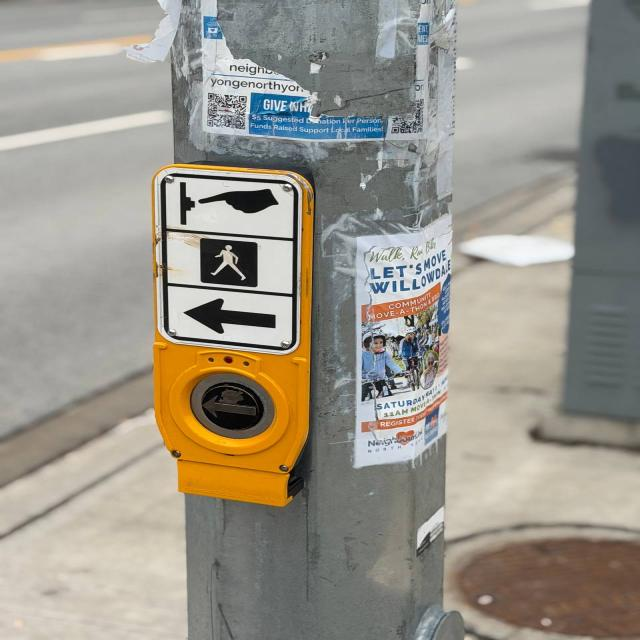Electrical Pole: (148, 1, 468, 638)
